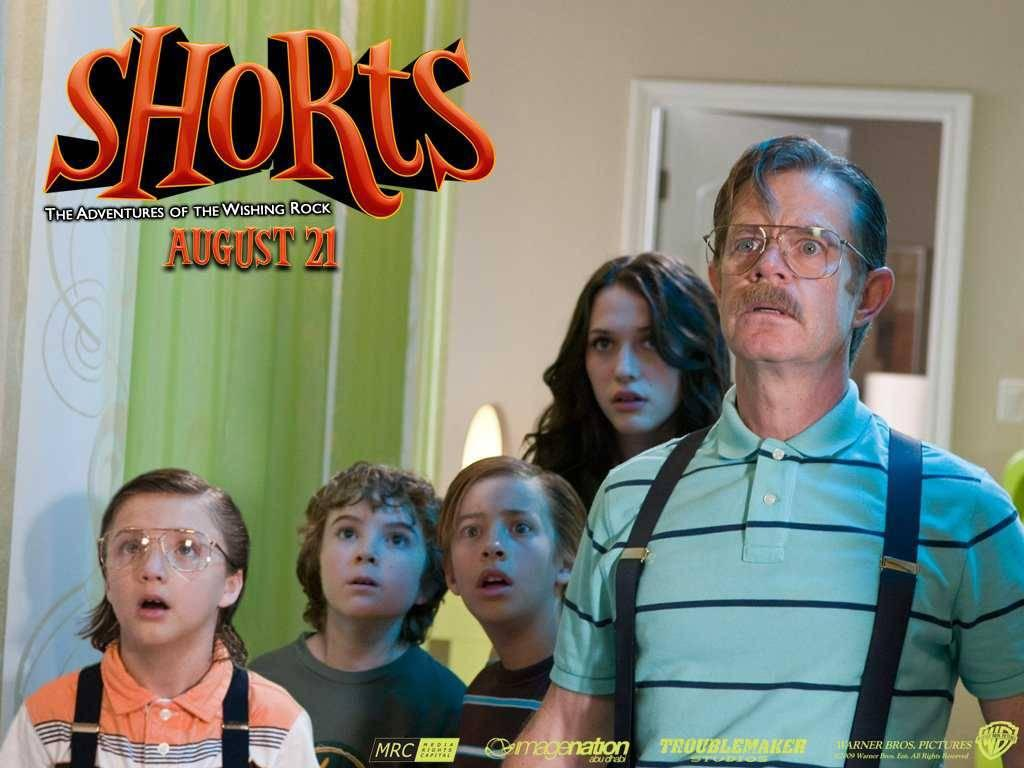face: (726, 178, 850, 360), (106, 498, 224, 644), (452, 474, 552, 616), (586, 284, 678, 430), (326, 484, 420, 620)
